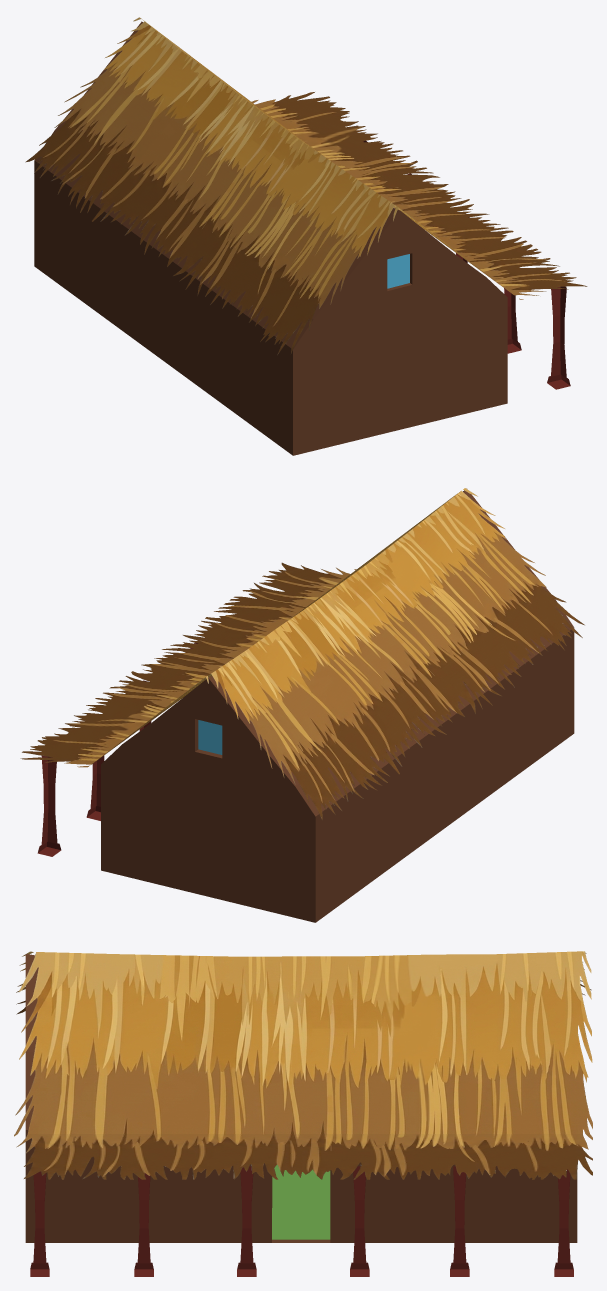
File: Cochero_House3.fbx
3 renders of one model, top to bottom at view 1: azimuth 30°, elevation 25°; view 2: azimuth 150°, elevation 25°; view 3: azimuth 270°, elevation 25°, orthographic. The views are drawn at different scales.
Parts seen in each view (by area): view 1: Cube; view 2: Cube; view 3: Cube.
Boxes of the visible parts, left/top/right/bottom form: Cube: left=25, top=17, right=587, bottom=455; Cube: left=20, top=488, right=584, bottom=922; Cube: left=14, top=951, right=592, bottom=1276.
Bounding box in the file's own units: 1244 × 857 × 1904.
